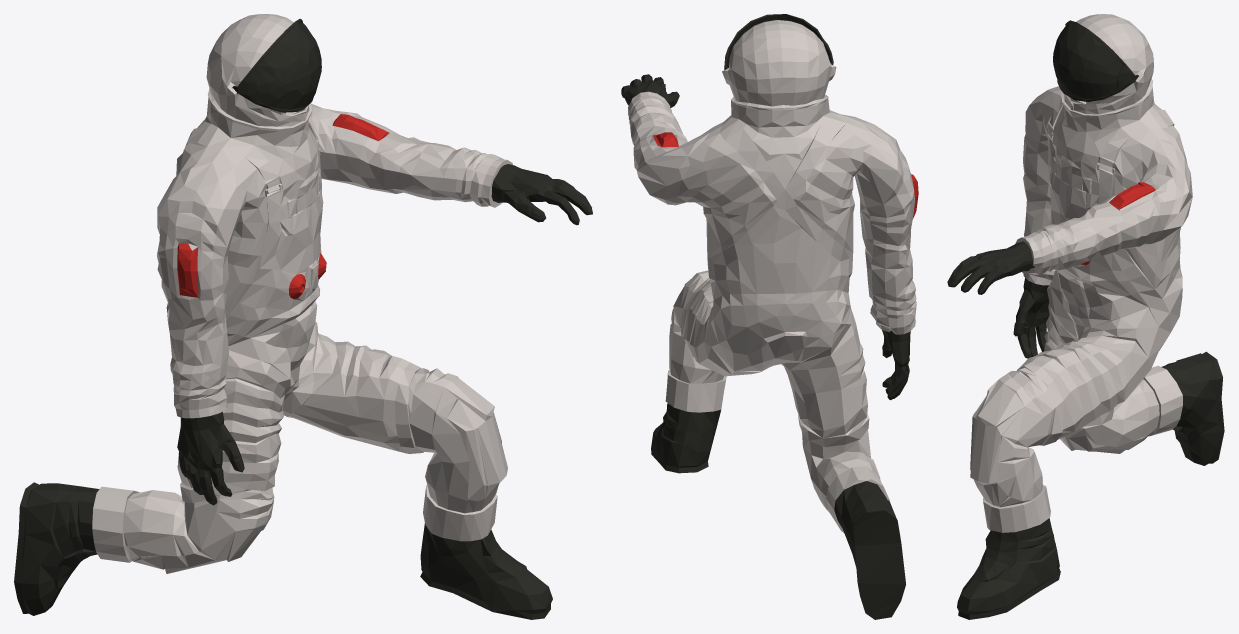
The model's file is 03 Astronaut_2.FBX.
The picture shows the model from 3 angles, left to right: view 1: azimuth 30°, elevation 25°; view 2: azimuth 150°, elevation 25°; view 3: azimuth 270°, elevation 25°; orthographic projection. The views are drawn at different scales.
Parts seen in each view (by area): view 1: suit001; view 2: suit001; view 3: suit001.
Part boxes in pixels (x1=…): suit001: x1=14, y1=14, x2=592, y2=619; suit001: x1=621, y1=14, x2=918, y2=619; suit001: x1=947, y1=14, x2=1224, y2=619.
Bounding box in the file's own units: 554 × 701 × 340.
